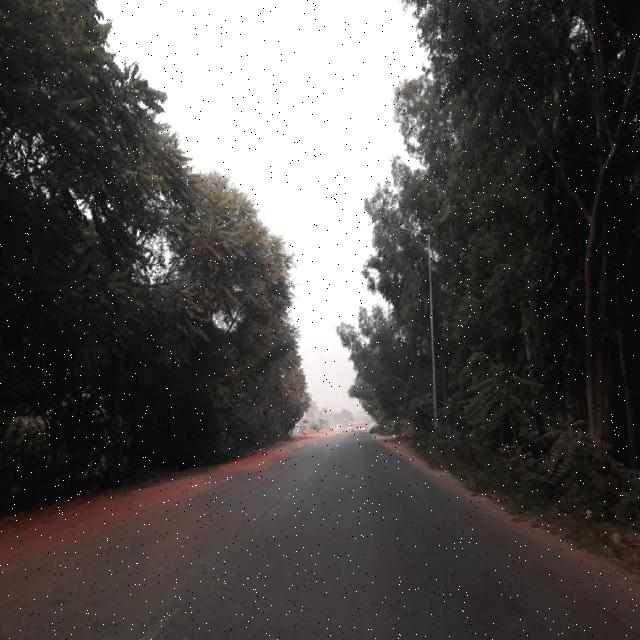D44: (260, 485, 298, 527), (143, 601, 188, 635)
